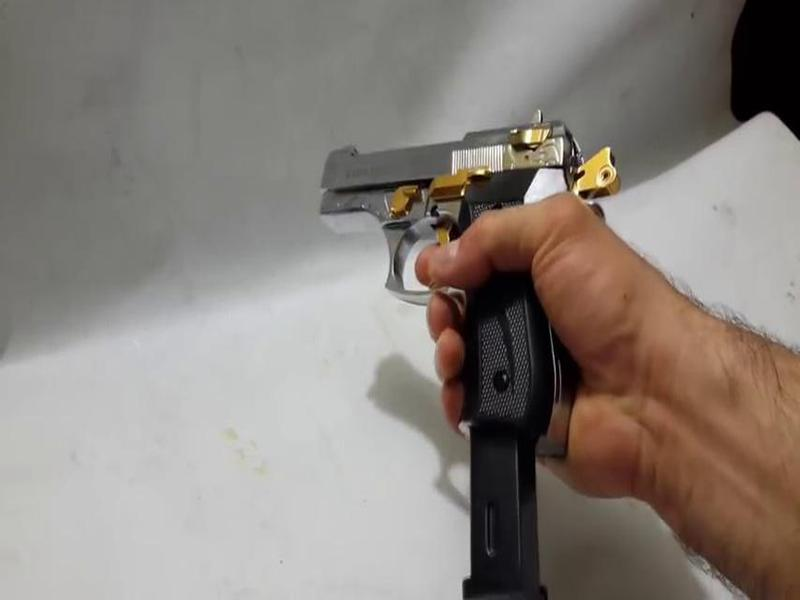Pistola: (318, 119, 608, 437)
